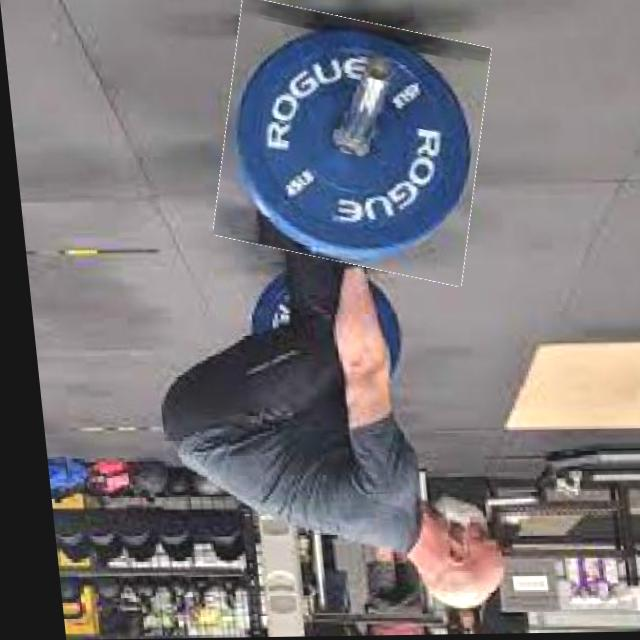barbell: (203, 7, 498, 279)
